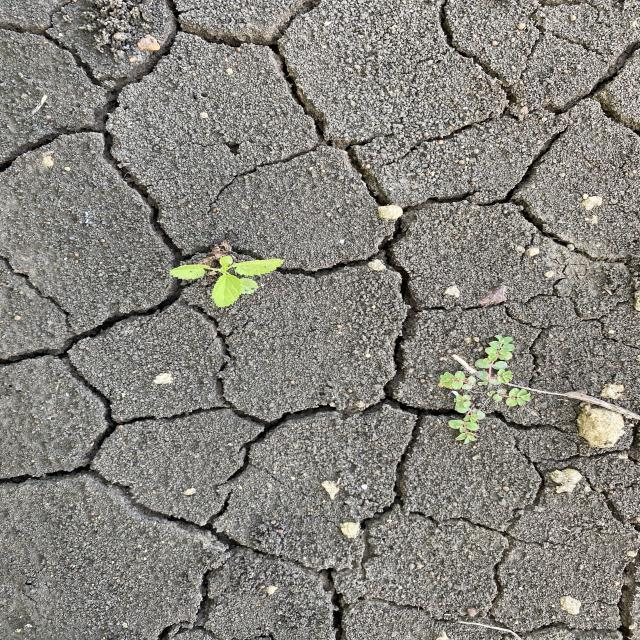PricklySida: (167, 253, 285, 310)
SpottedSpurge: (436, 334, 534, 446)
